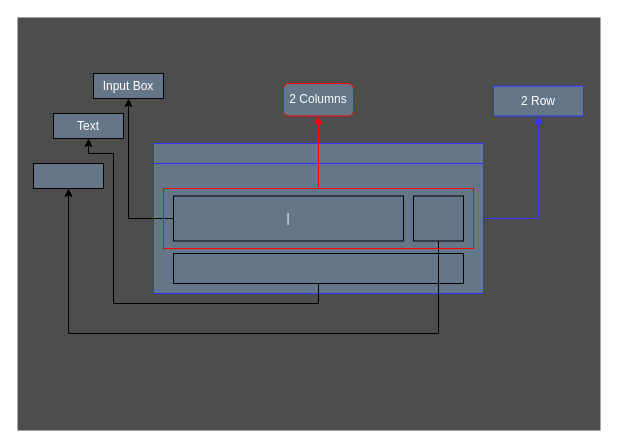
The diagram is 617 pixels wide and 447 high, and some of its shapes have lost their labels. Here are the shapes that lost their labels. From the top down, the centre of each, then its label:
At pixel 68 175: "Img Button".
At pixel 318 268: "Error Messages".
